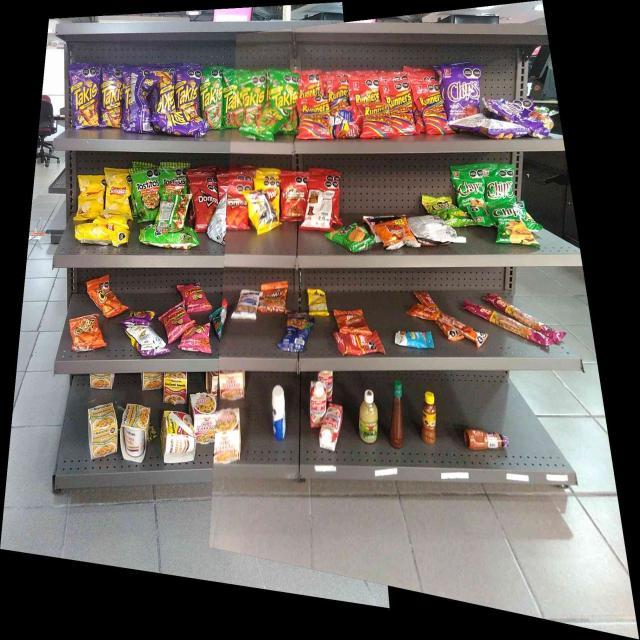bitzAlmendras: (394, 330, 433, 348)
bitzEnchilado90: (338, 336, 382, 354), (338, 312, 368, 334)
bitzEnchilado95: (408, 304, 438, 323)
bitzHabanero: (502, 318, 547, 339), (468, 302, 500, 324)
bokadosCacahuates: (283, 319, 311, 351)
botaneraChilito: (422, 392, 435, 444)
cheetosOriginal: (71, 316, 103, 349), (95, 280, 120, 314)
chipsFuego: (446, 68, 481, 114)
chipsJalapeno: (489, 204, 533, 247), (487, 170, 514, 202), (468, 170, 485, 212)
chipsPapatinas: (439, 200, 467, 226)
churrumais: (162, 306, 185, 338), (186, 323, 210, 351), (187, 284, 209, 311)
delPrimoSalsa: (358, 390, 378, 443)
doritosNacho: (192, 184, 217, 230), (226, 181, 246, 229)
fritosLimon: (256, 178, 279, 202)
hotNutsOriginal: (372, 218, 408, 248)
leoCacahuates: (238, 290, 257, 317)
leoMix: (260, 285, 285, 311)
maruchanPollo: (121, 404, 150, 463), (87, 406, 117, 455)
maruchanRes: (160, 413, 192, 463), (163, 374, 186, 404)
nestleCarnation: (326, 404, 340, 450), (310, 382, 324, 425)
nestleLechera: (272, 385, 285, 440)
nissinRes: (216, 410, 240, 462), (194, 393, 214, 443), (220, 374, 243, 400)
productoAtras: (450, 118, 520, 138), (131, 72, 149, 133), (309, 184, 329, 231), (128, 328, 160, 357), (161, 196, 191, 226), (411, 216, 438, 246), (248, 204, 278, 231)
rancheritos: (281, 177, 307, 223)
rufflesQueso: (331, 223, 371, 250)
runners: (417, 82, 444, 134), (297, 99, 330, 138), (393, 83, 415, 135), (363, 105, 391, 139), (331, 111, 361, 139), (350, 80, 379, 102), (297, 72, 321, 95), (324, 78, 348, 95)
sabritasOriginal: (106, 167, 132, 218), (75, 222, 130, 246), (78, 174, 105, 217)
salsaBufalo: (392, 381, 402, 446)
semillasCalabaza: (310, 290, 328, 316)
tajinDulce: (464, 429, 510, 452)
takisFuego: (72, 67, 98, 126), (100, 67, 122, 128), (152, 114, 206, 137), (151, 70, 175, 112), (177, 67, 199, 112), (123, 72, 129, 126)
takisOriginal: (266, 72, 296, 132), (223, 75, 242, 129), (244, 74, 263, 120), (202, 69, 221, 110), (207, 112, 221, 130)
tostitos: (134, 167, 160, 219), (140, 229, 197, 247), (162, 161, 187, 194)
